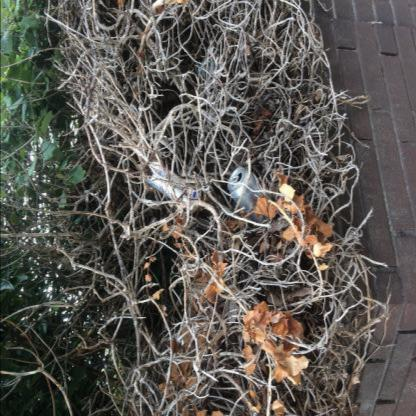Can: (146, 158, 200, 210), (227, 167, 267, 223)
Pop tab: (230, 175, 238, 183)
